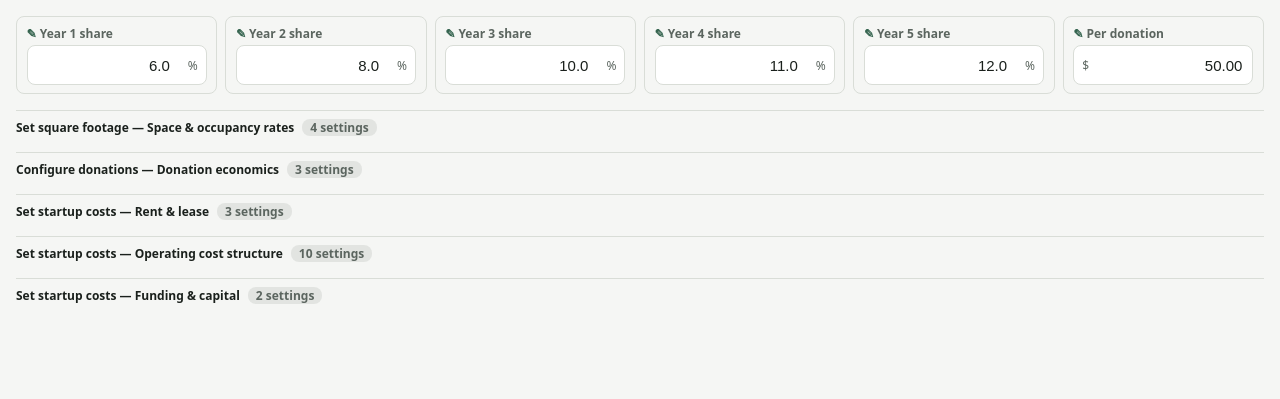
SettingsTab — grouped by wizard steps (Task 3.1) › shows the lease type as a display-only chip (not an editable field) in the space-rates group
The image size is (1280, 399).
Click the heading "Set square footage — Space & occupancy rates 4 settings": [196, 128] box [16,119,377,136]
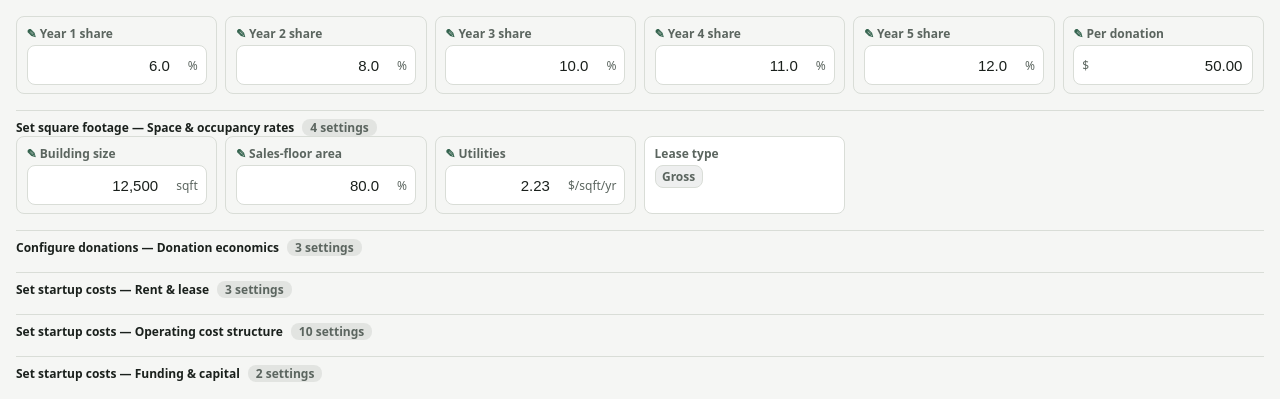
Check: the element with test id "settings-lease-type" shows "Gross", box [662,168,695,185]
